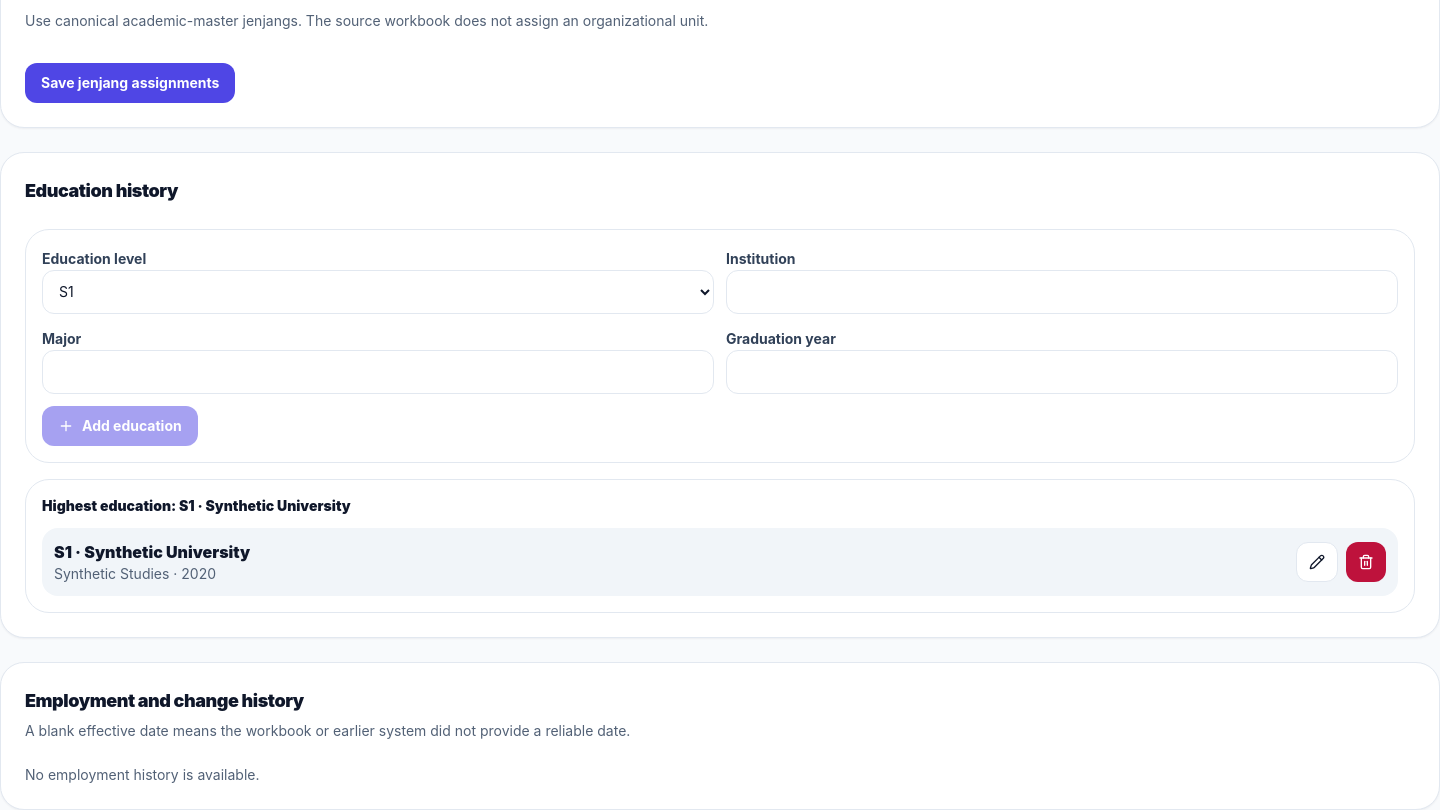
Staff Detail education deletion › deletes once after confirmation and refreshes the staff detail query
(page scrolled)
Step 1. Click the button named "Delete education record S1" → {"x": 1366, "y": 562}, box [1346,542,1386,582]
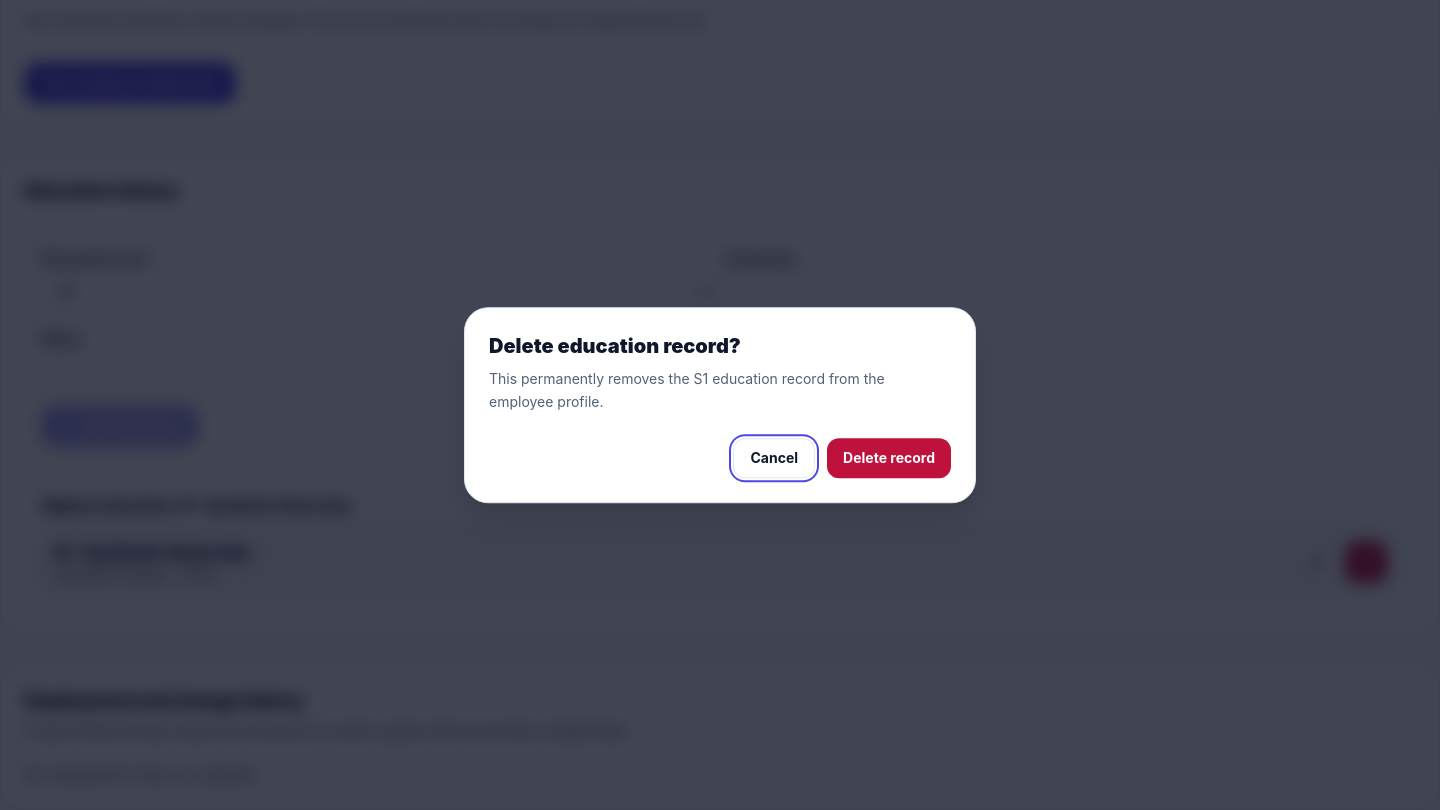
Step 2. Click the button "Delete record" → {"x": 889, "y": 458}, box [827,438,951,478]
(page scrolled)
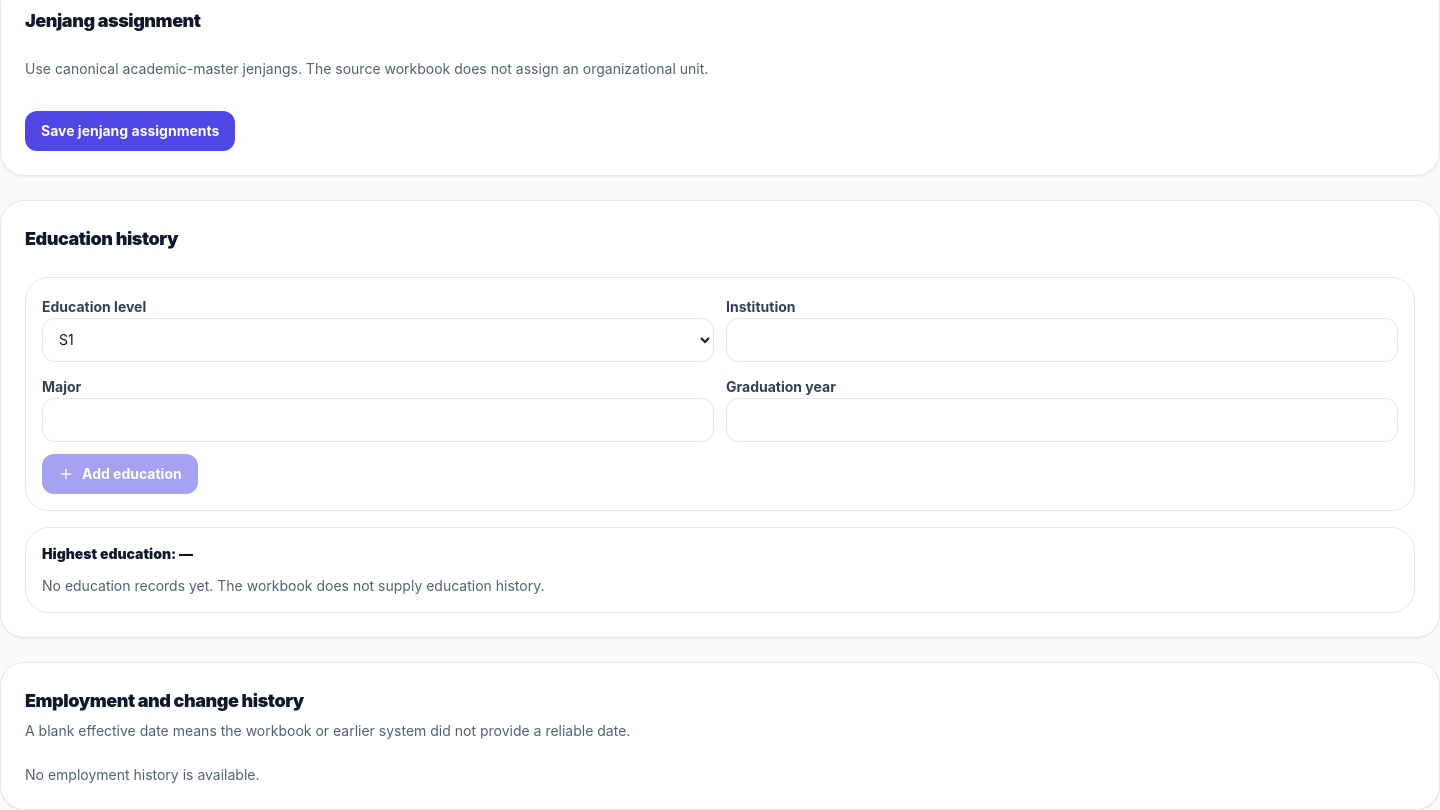
Expected: the text "No education records yet." is shown, [42,577,544,594]
Expected: the text "S1 · Synthetic University" is gone
